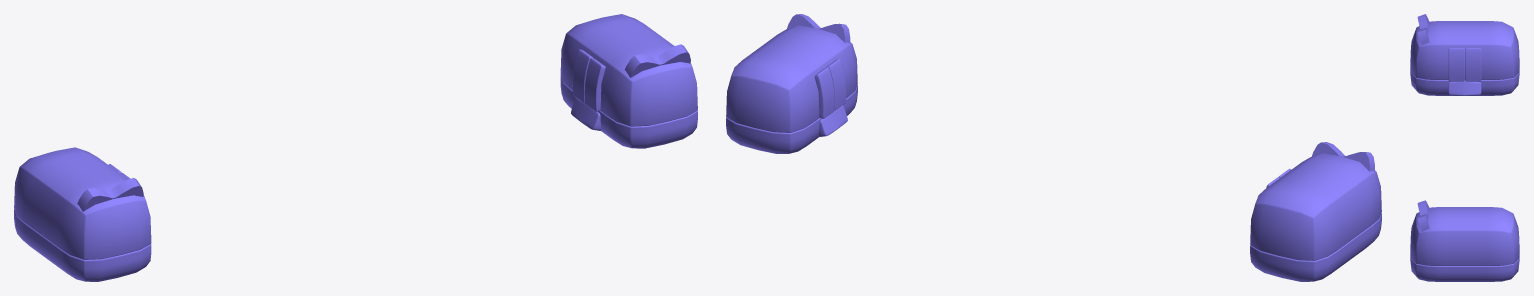
The model's file is obj_bus.gltf.
3 views of the same model, side by side, from view 1: azimuth 30°, elevation 25°; view 2: azimuth 150°, elevation 25°; view 3: azimuth 270°, elevation 25° (orthographic). The views are drawn at different scales.
Visible parts, largest first — view 1: obj_bus; view 2: obj_bus; view 3: obj_bus.
Part boxes in pixels (<box>): obj_bus: <box>14,14,697,281</box>; obj_bus: <box>726,14,1381,281</box>; obj_bus: <box>1410,14,1519,281</box>.
Bounding box in the file's own units: 13.42 × 1.92 × 2.91.
